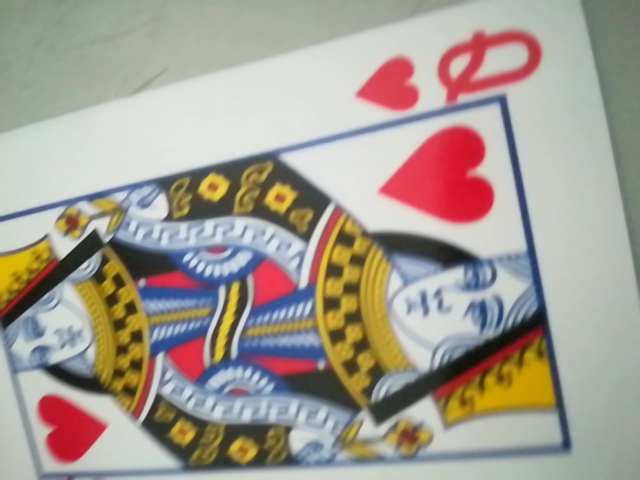hx q: (352, 21, 544, 118)
